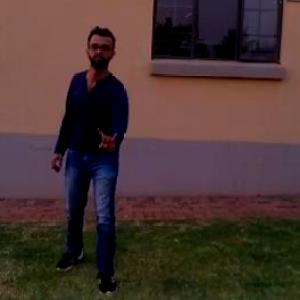takeoff-hand: (92, 120, 120, 154)
